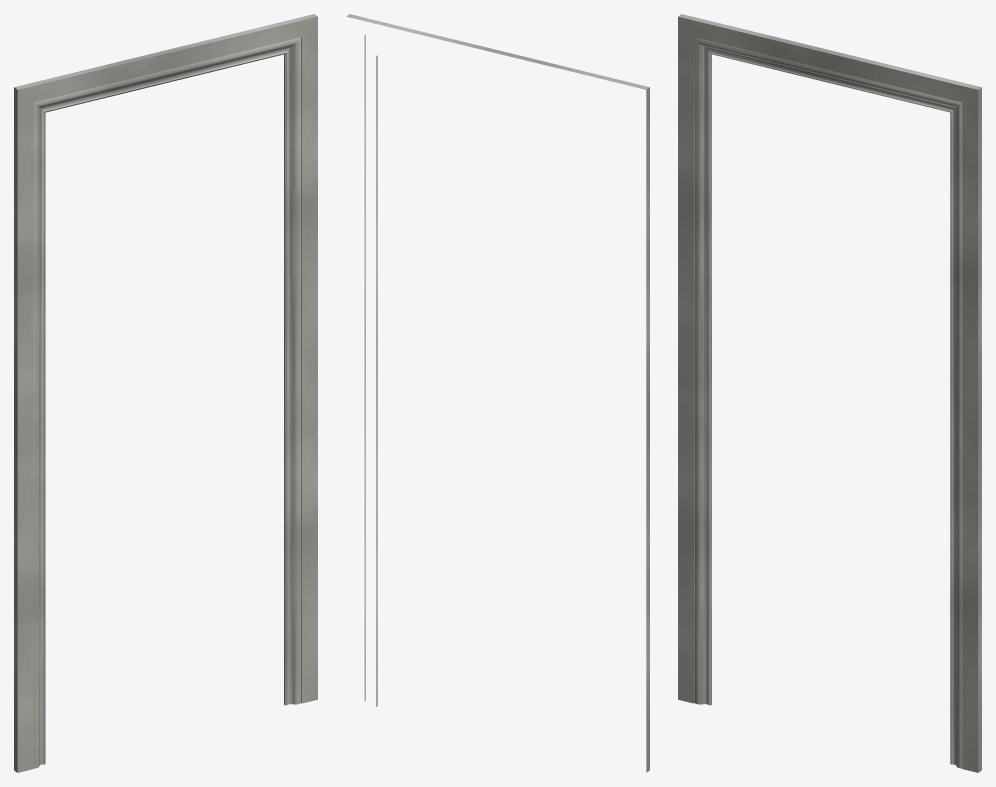
The model's file is door_frame.glb.
3 views of the same model, side by side, from view 1: azimuth 30°, elevation 25°; view 2: azimuth 150°, elevation 25°; view 3: azimuth 330°, elevation 25° (orthographic).
Parts seen in each view (by area): view 1: door_frame; view 2: door_frame; view 3: door_frame.
Part boxes in pixels (x1=…): door_frame: x1=14, y1=14, x2=317, y2=772; door_frame: x1=346, y1=14, x2=649, y2=772; door_frame: x1=678, y1=14, x2=981, y2=772.
Bounding box in the file's own units: 0.9562 × 2.08 × 0.02.
1 material, 1 textured.
